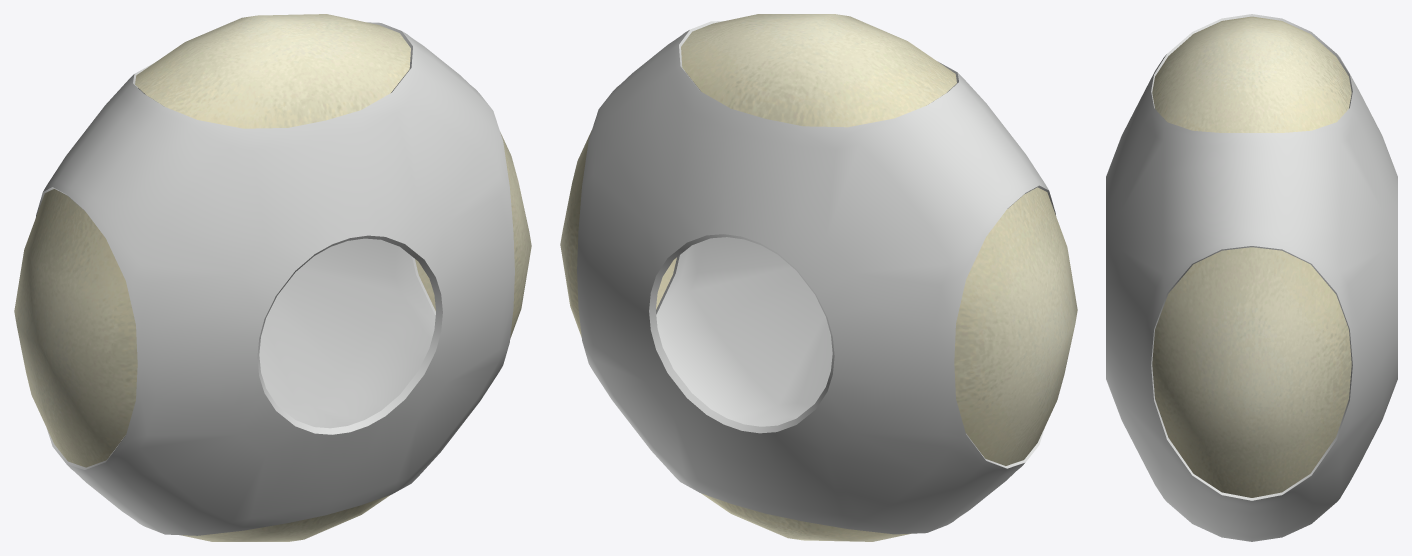
The model's file is nt_2020_light_fixture_LOD1.obj.
The picture shows the model from 3 angles, left to right: view 1: azimuth 30°, elevation 25°; view 2: azimuth 150°, elevation 25°; view 3: azimuth 270°, elevation 25°; orthographic projection. The views are drawn at different scales.
Visible parts, largest first — view 1: mtl_nt_2020_light_fixture, glass_frosted_lit; view 2: mtl_nt_2020_light_fixture, glass_frosted_lit; view 3: mtl_nt_2020_light_fixture, glass_frosted_lit.
Boxes of the visible parts, x1,y1,x2,y2 form: mtl_nt_2020_light_fixture: (36, 22, 514, 535); glass_frosted_lit: (14, 14, 531, 541); mtl_nt_2020_light_fixture: (577, 20, 1055, 534); glass_frosted_lit: (560, 14, 1077, 541); mtl_nt_2020_light_fixture: (1106, 14, 1397, 541); glass_frosted_lit: (1152, 16, 1351, 497).
Bounding box in the file's own units: 43.22 × 43.22 × 23.61.
